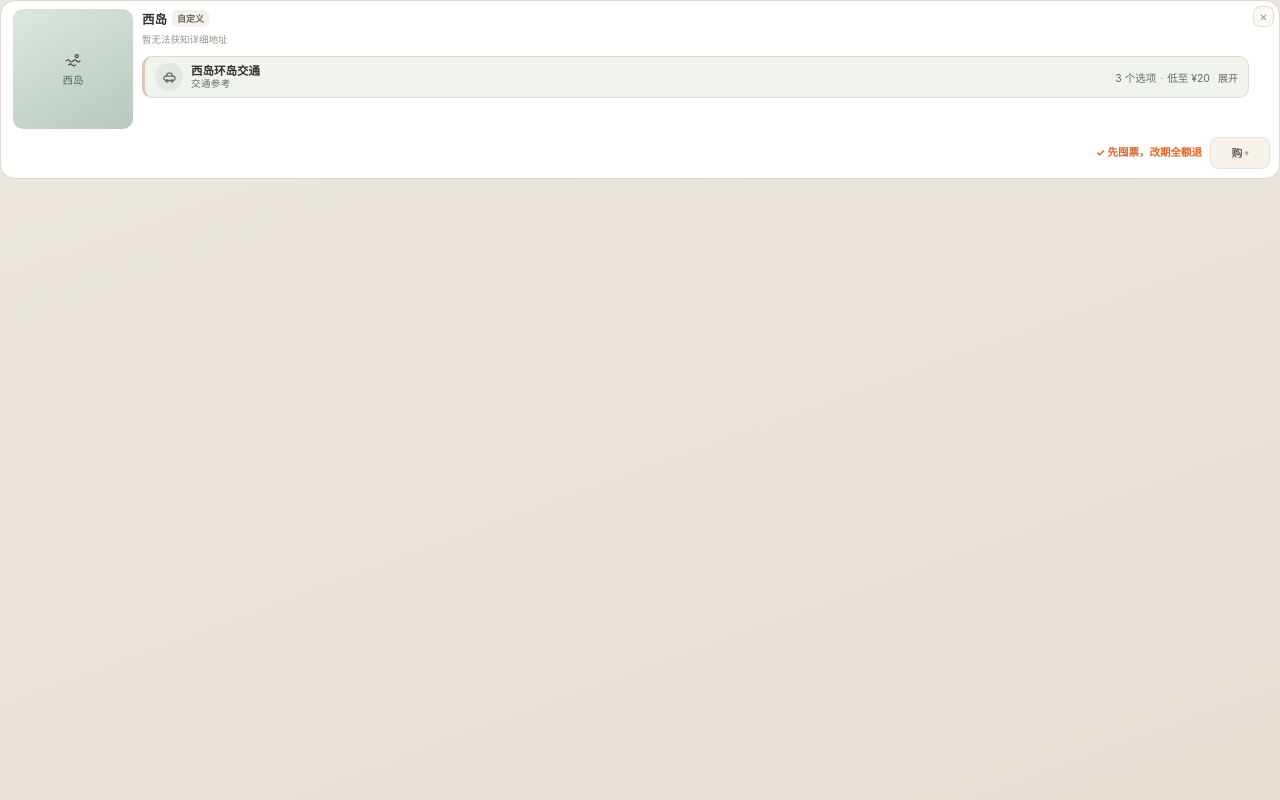
Test case: VisitCard 实用参考选项组（任务 190） › 「查看原文」打开 EvidenceSheet 定位对应提及（复用既有原文证据链路）
Expected: the dialog "攻略原文" is not shown
Click the button with class "og-head": point(226, 71) [145, 57, 1248, 97]
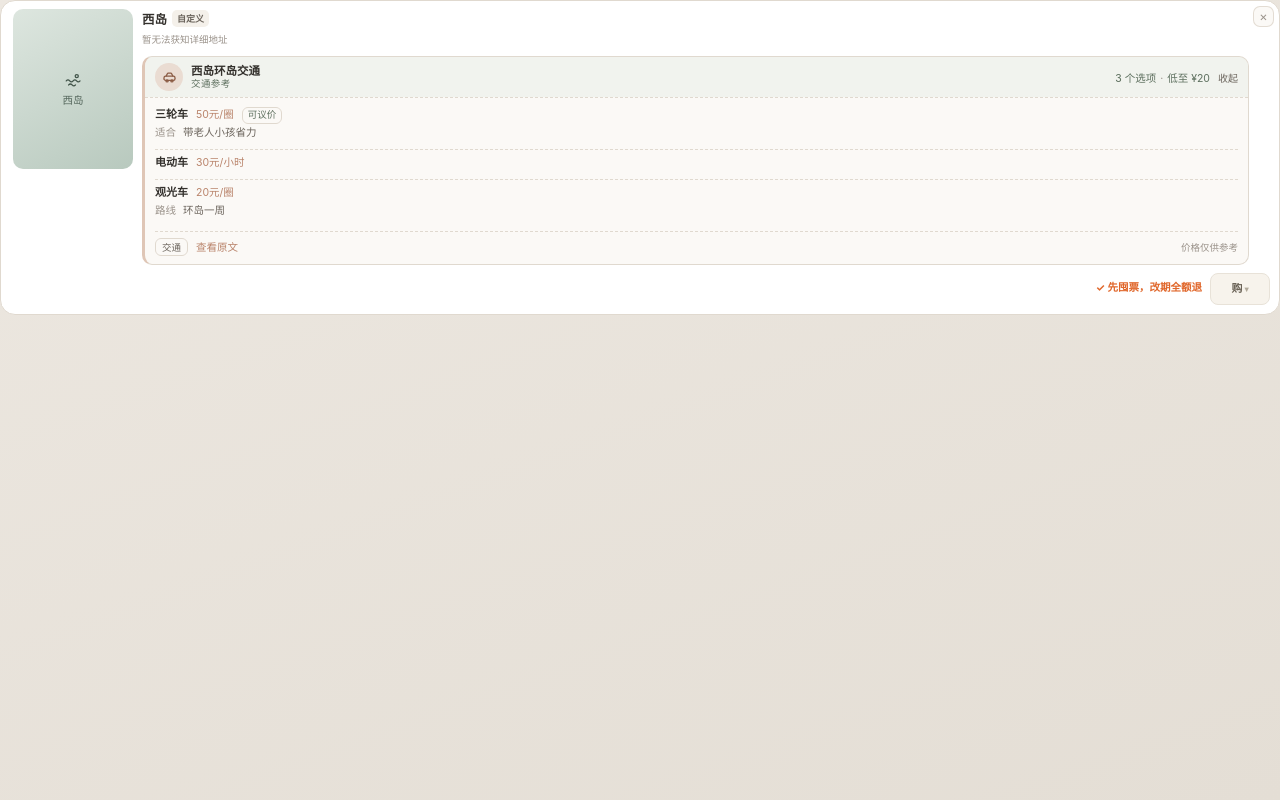
Click the button with class "og-evidence": point(217, 247) [196, 239, 238, 254]
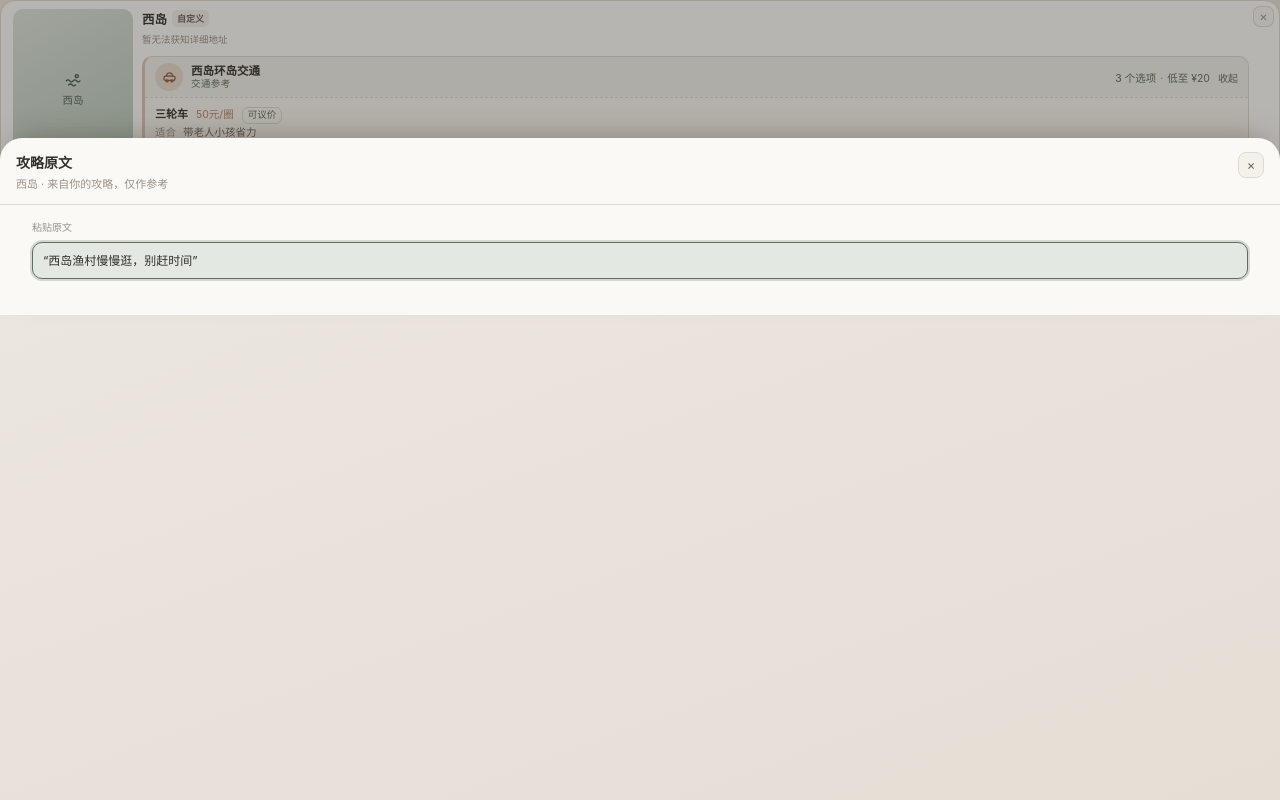
Now the dialog "攻略原文" is shown, box [0, 138, 1279, 315]
Now the text "“西岛渔村慢慢逛，别赶时间”" is shown, box [43, 253, 198, 268]
